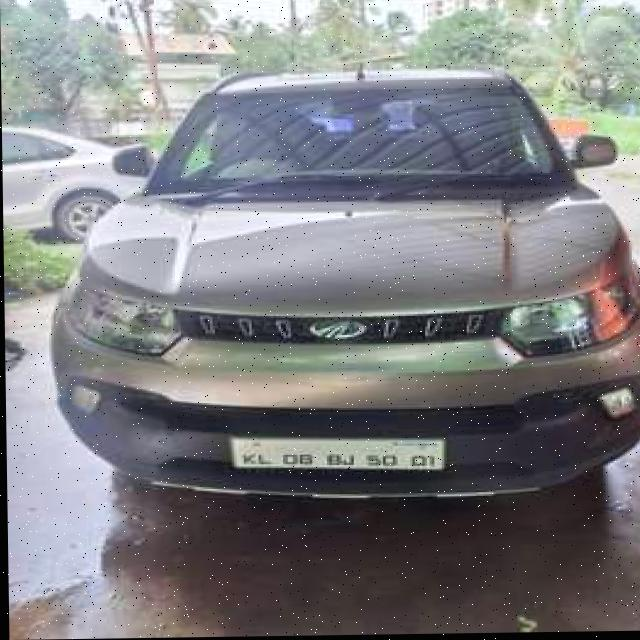plate: (229, 437, 442, 476)
